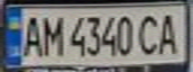0: (115, 12, 136, 57)
3: (81, 12, 103, 57)
4: (66, 12, 87, 56), (100, 12, 118, 56)
A: (154, 10, 184, 56), (18, 12, 45, 59)
C: (136, 11, 163, 56)
M: (39, 12, 66, 57)
